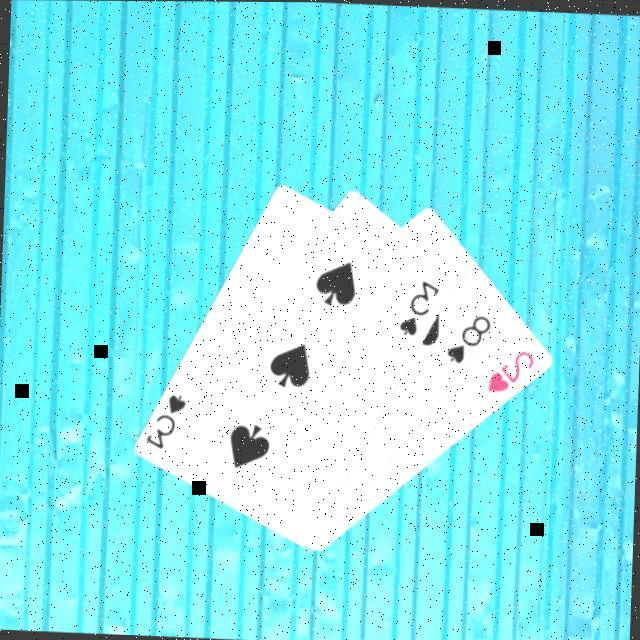2H: (483, 345, 537, 397)
3S: (394, 276, 442, 340), (141, 390, 189, 454)
8S: (442, 311, 494, 369)
